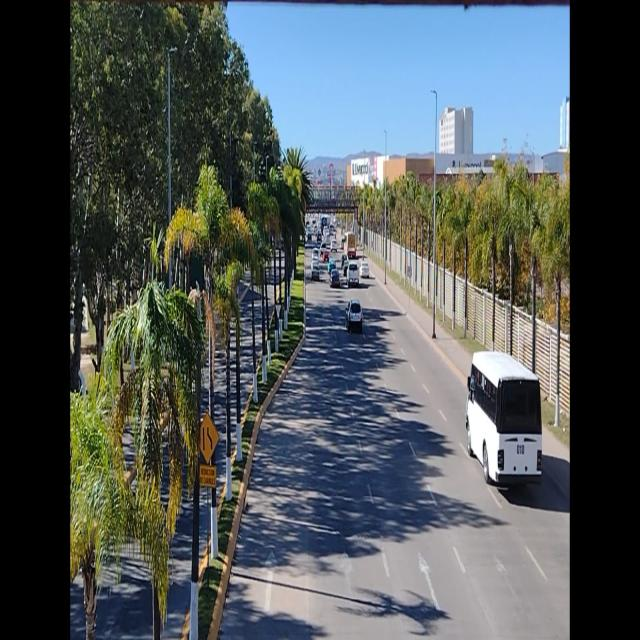Auto: (348, 296, 366, 336), (327, 266, 342, 290), (346, 259, 357, 290), (308, 266, 322, 290), (361, 257, 370, 286)
Autobus: (464, 348, 545, 500)
